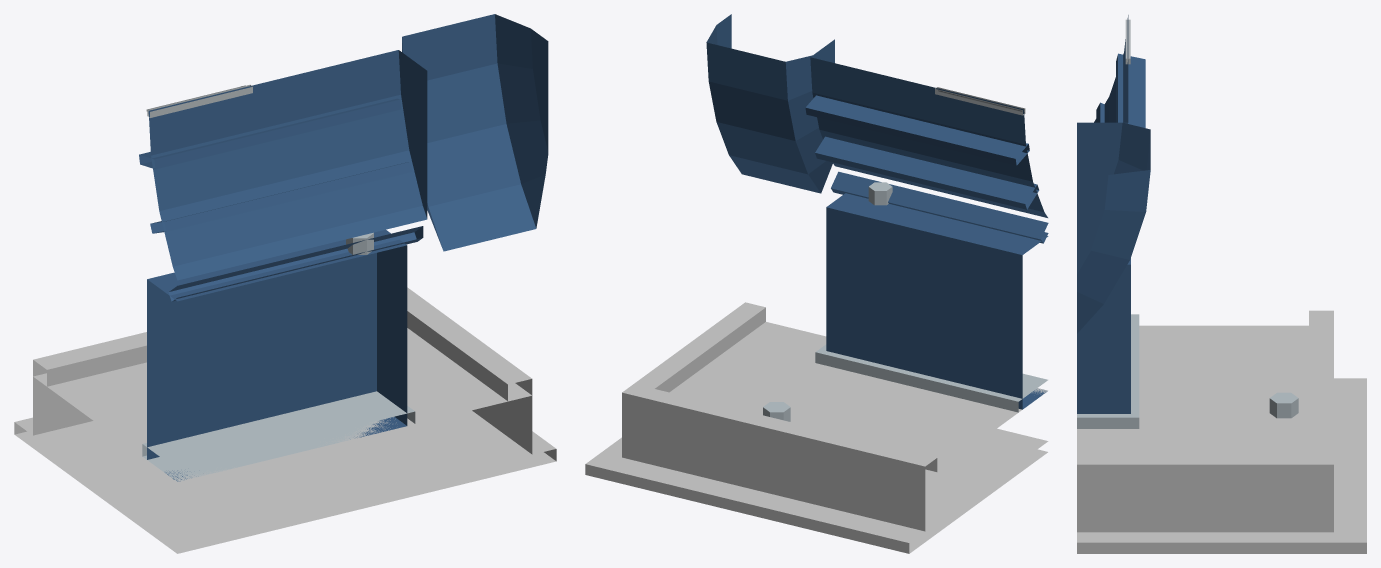
File: cell_6.obj
3 views of the same model, side by side, from view 1: azimuth 30°, elevation 25°; view 2: azimuth 150°, elevation 25°; view 3: azimuth 270°, elevation 25° (orthographic). The views are drawn at different scales.
Size of the model in its own units: 0.94 by 1 by 0.7.
